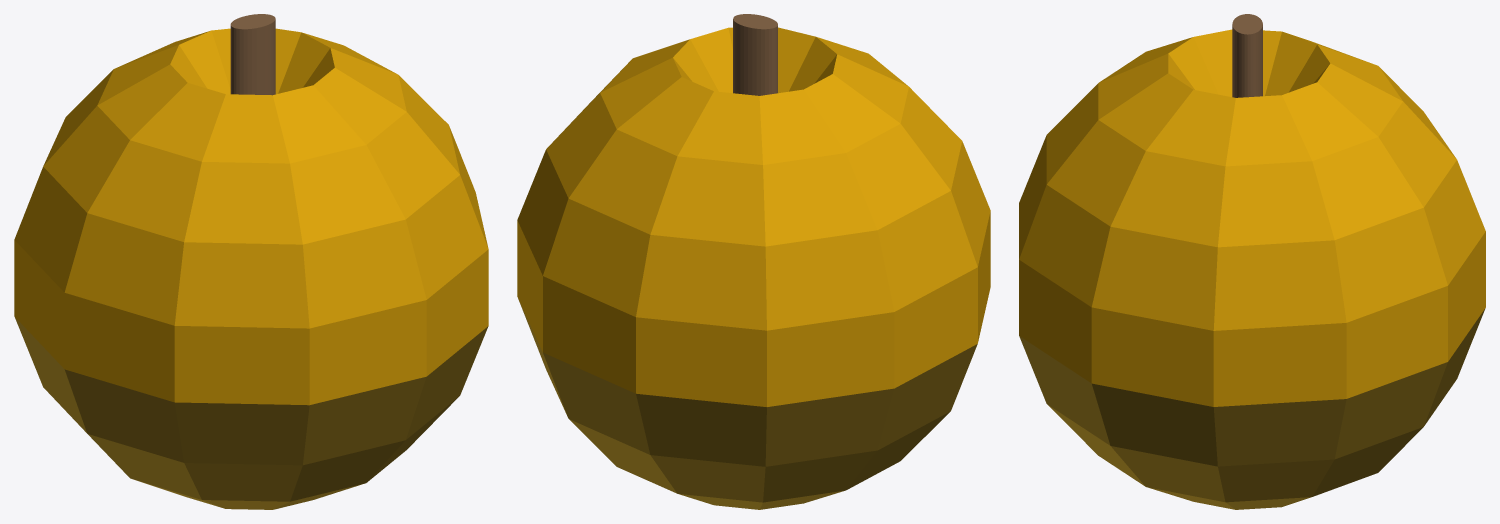
Rendered from GoldenApple.fbx.
3 views of the same model, side by side, from view 1: azimuth 30°, elevation 25°; view 2: azimuth 150°, elevation 25°; view 3: azimuth 270°, elevation 25° (orthographic).
Visible parts, largest first — view 1: Sphere; view 2: Sphere; view 3: Sphere.
Boxes of the visible parts, x1,y1,x2,y2 form: Sphere: [14, 14, 488, 509]; Sphere: [517, 14, 990, 509]; Sphere: [1019, 14, 1485, 509].
Bounding box in the file's own units: 1.95 × 1.93 × 2.06.
